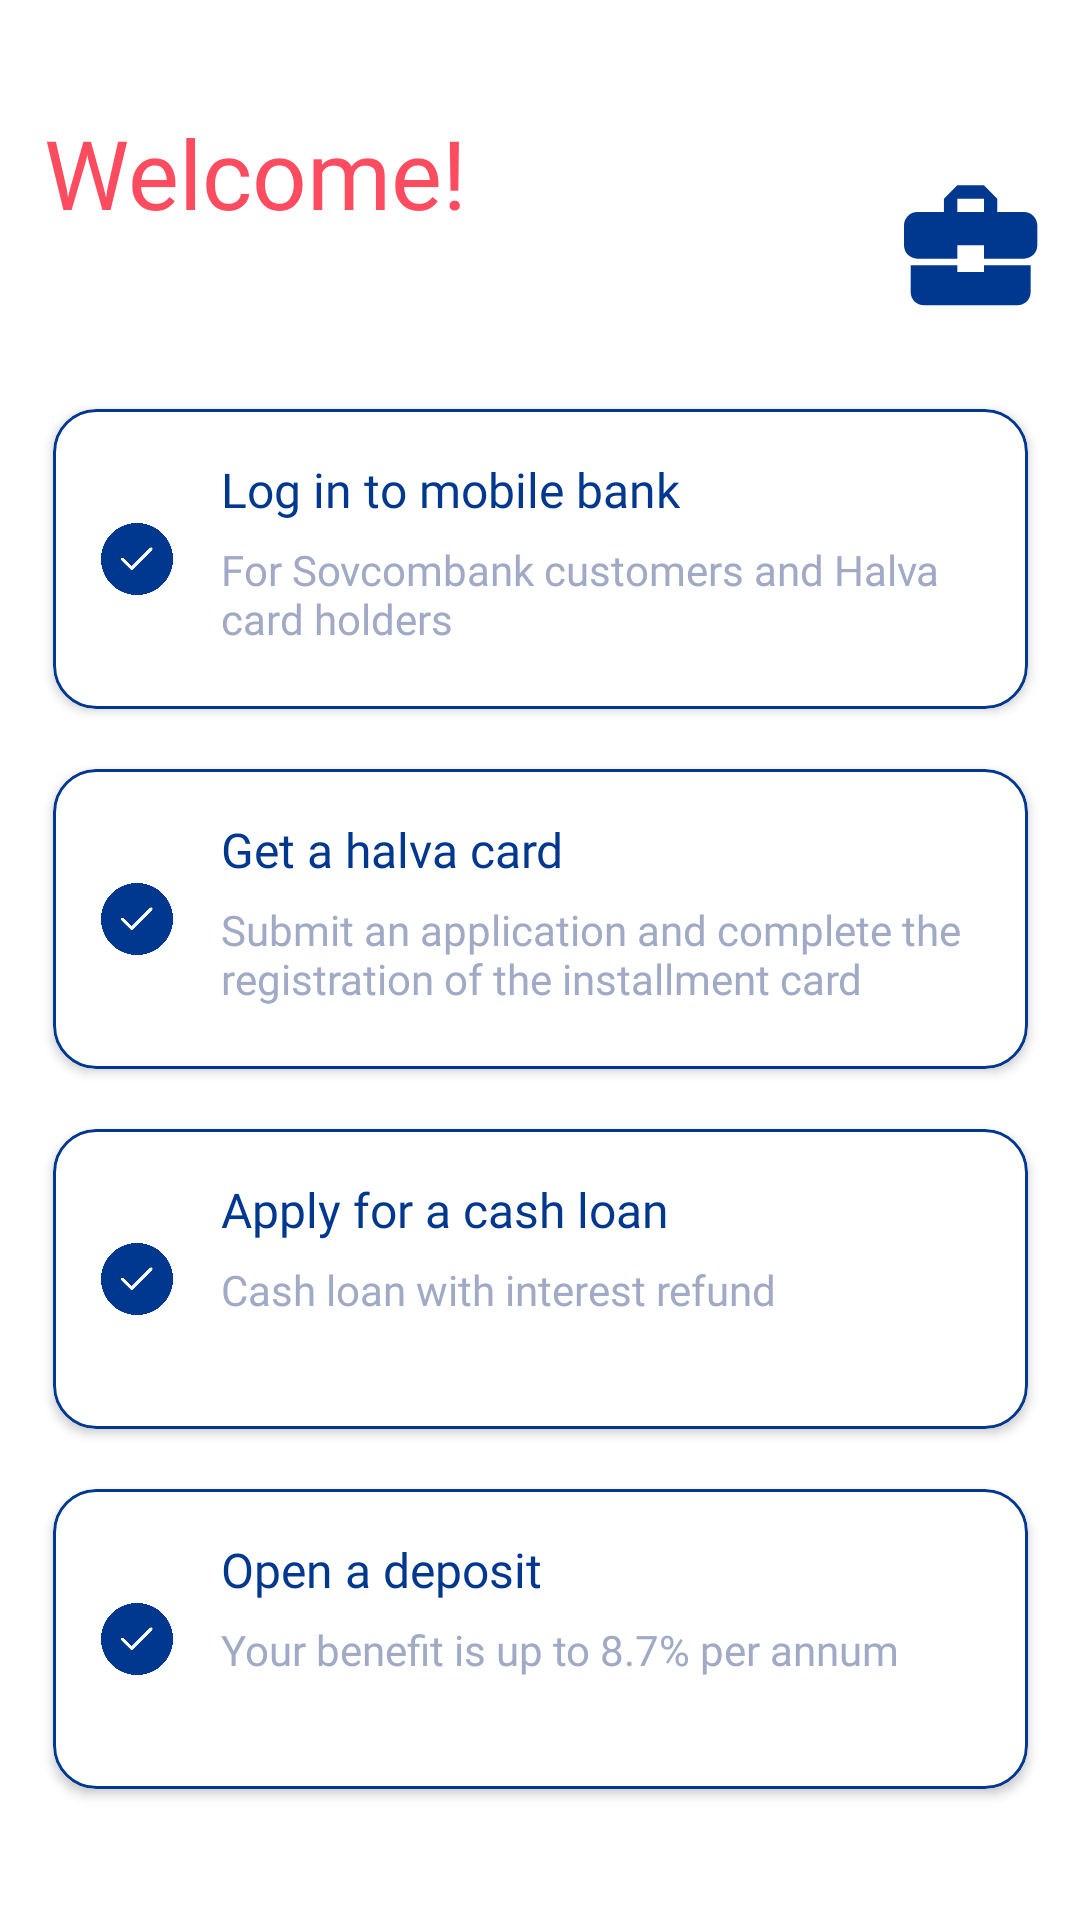

Icons on this 1080w x 1920h Android screen, each with its box as detection(x1, y1, x2, y2):
check mark cardview: detection(101, 523, 173, 595), detection(101, 883, 173, 955), detection(101, 1243, 173, 1315), detection(101, 1603, 173, 1675)
